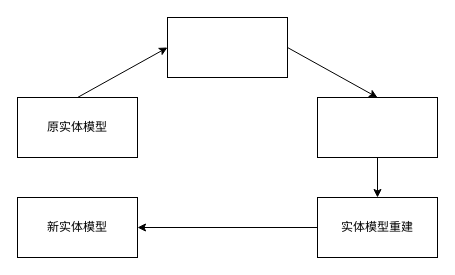
Some shapes in this 455 by 275 pixel diagram are drawn without their labels. The shapes that lost their labels are listed below. From the top down, each one's centre as x and y in pixels, then its label:
At point 227,47: "修改模型".
At point 377,127: "删除原模型".
